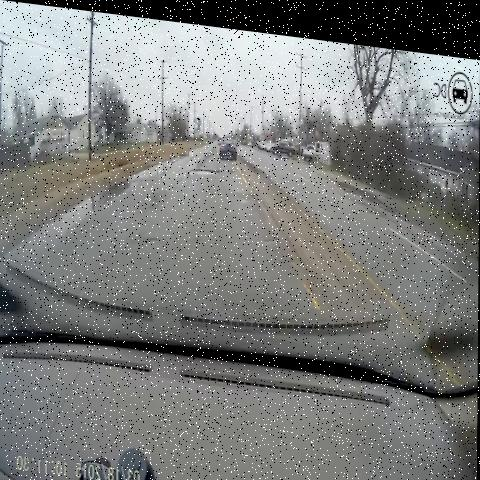pothole: (182, 149, 228, 188), (140, 218, 168, 257), (264, 216, 284, 253), (249, 173, 268, 210)
